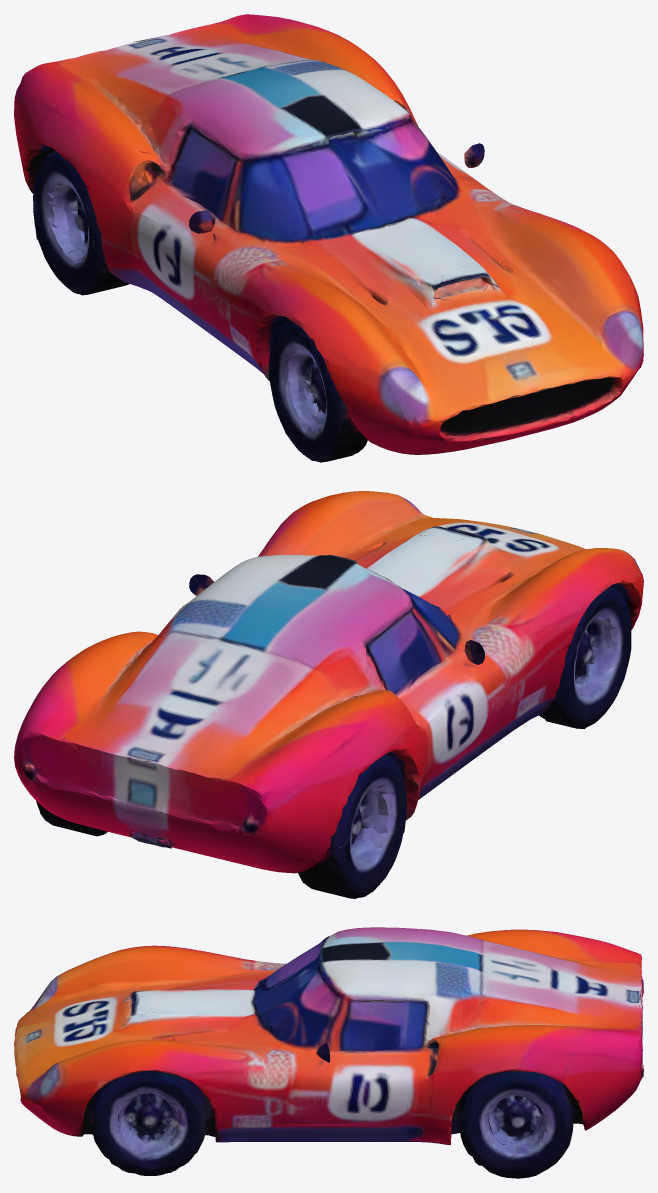
File: classiclemans2.glb
The picture shows the model from 3 angles, top to bottom: view 1: azimuth 30°, elevation 25°; view 2: azimuth 150°, elevation 25°; view 3: azimuth 270°, elevation 25°; orthographic projection. The views are drawn at different scales.
Parts seen in each view (by area): view 1: body, panel_door_L, wheel_front_L, panel_roof, panel_bumper_f, panel_bumper_r, panel_trunk, wheel_rear_L, panel_hood, wheel_front_R; view 2: body, panel_bumper_r, panel_door_L, wheel_front_L, panel_roof, wheel_rear_L, panel_trunk, panel_hood, panel_bumper_f, wheel_rear_R; view 3: body, wheel_front_R, panel_bumper_r, panel_bumper_f, panel_roof, wheel_rear_R, panel_trunk, panel_hood.
Part boxes in pixels (box(x1,y1,x2,y2)): body: box(22, 14, 636, 454); panel_door_L: box(14, 92, 324, 379); wheel_front_L: box(256, 317, 456, 462); panel_roof: box(168, 115, 484, 244); panel_bumper_f: box(262, 296, 636, 443); panel_bumper_r: box(14, 41, 148, 294); panel_trunk: box(17, 22, 416, 223); wheel_rear_L: box(23, 145, 156, 295); panel_hood: box(255, 260, 632, 370); wheel_front_R: box(596, 272, 643, 405); body: box(14, 491, 633, 873); panel_bumper_r: box(15, 735, 406, 897); panel_door_L: box(282, 574, 627, 835); wheel_front_L: box(539, 558, 643, 728); panel_roof: box(189, 555, 484, 697); wheel_rear_L: box(298, 751, 419, 898); panel_trunk: box(22, 607, 425, 828); panel_hood: box(366, 526, 637, 655); panel_bumper_f: box(410, 503, 638, 669); wheel_rear_R: box(36, 735, 152, 836); body: box(14, 927, 641, 1145); wheel_front_R: box(19, 1066, 334, 1175); panel_bumper_r: box(466, 959, 643, 1178); panel_bumper_f: box(14, 980, 203, 1175); panel_roof: box(250, 936, 426, 1062); wheel_rear_R: box(445, 1080, 588, 1178); panel_trunk: box(410, 966, 643, 1110); panel_hood: box(99, 987, 216, 1109).
Bounding box in the file's own units: 1.88 × 1.19 × 4.
1 material, 1 textured.
